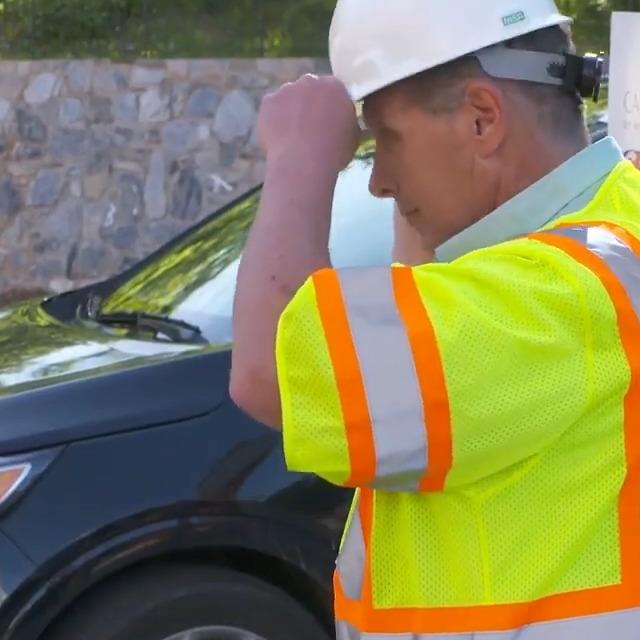Hardhat: (330, 0, 572, 103)
NO-Mask: (405, 123, 496, 254)
Person: (230, 0, 640, 640)
Safety Vest: (291, 167, 640, 640)
sedan: (0, 65, 640, 640)
